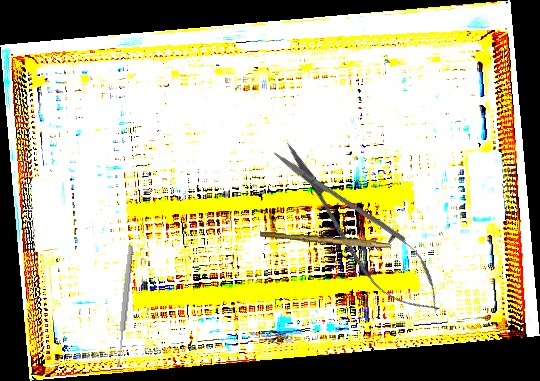Micro Scissor: (257, 125, 460, 332)
Scalpel Handle: (259, 230, 392, 249)
Surgical Spoon: (114, 245, 135, 368)
